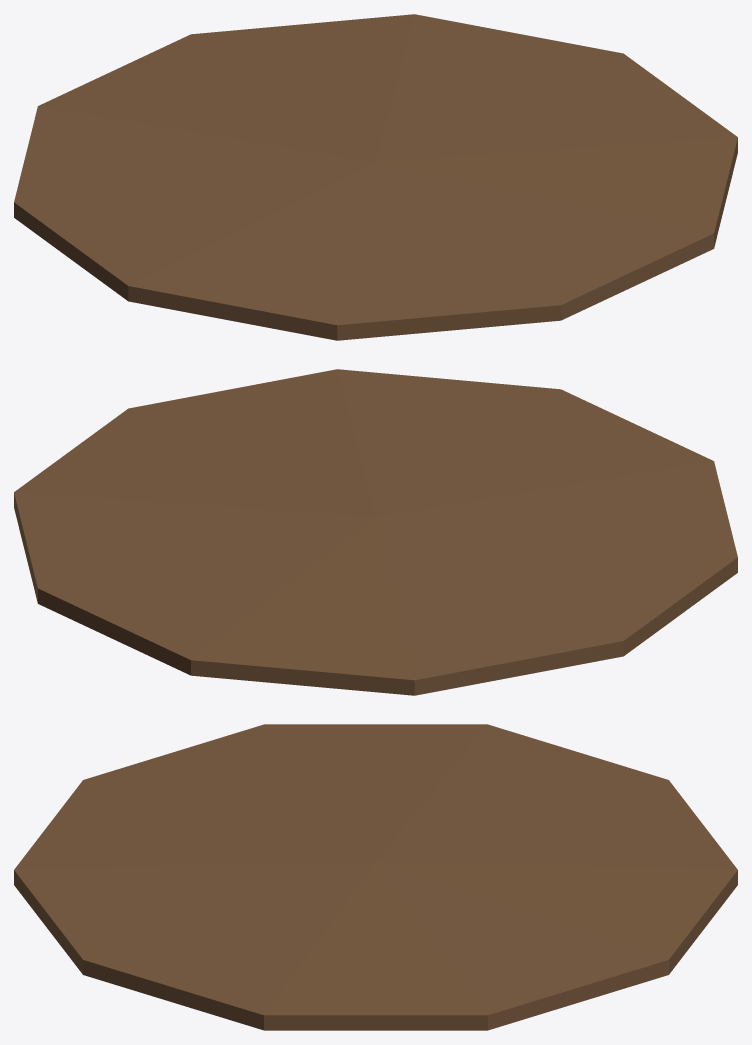
Rendered from dirt_patch.glb.
The picture shows the model from 3 angles, top to bottom: view 1: azimuth 30°, elevation 25°; view 2: azimuth 150°, elevation 25°; view 3: azimuth 270°, elevation 25°; orthographic projection. The views are drawn at different scales.
Parts seen in each view (by area): view 1: dirt_patch; view 2: dirt_patch; view 3: dirt_patch.
Boxes of the visible parts, x1,y1,x2,y2 form: dirt_patch: (14,14,737,340); dirt_patch: (14,369,737,695); dirt_patch: (14,724,737,1030).
Bounding box in the file's own units: 3.29 × 0.16 × 3.46.
